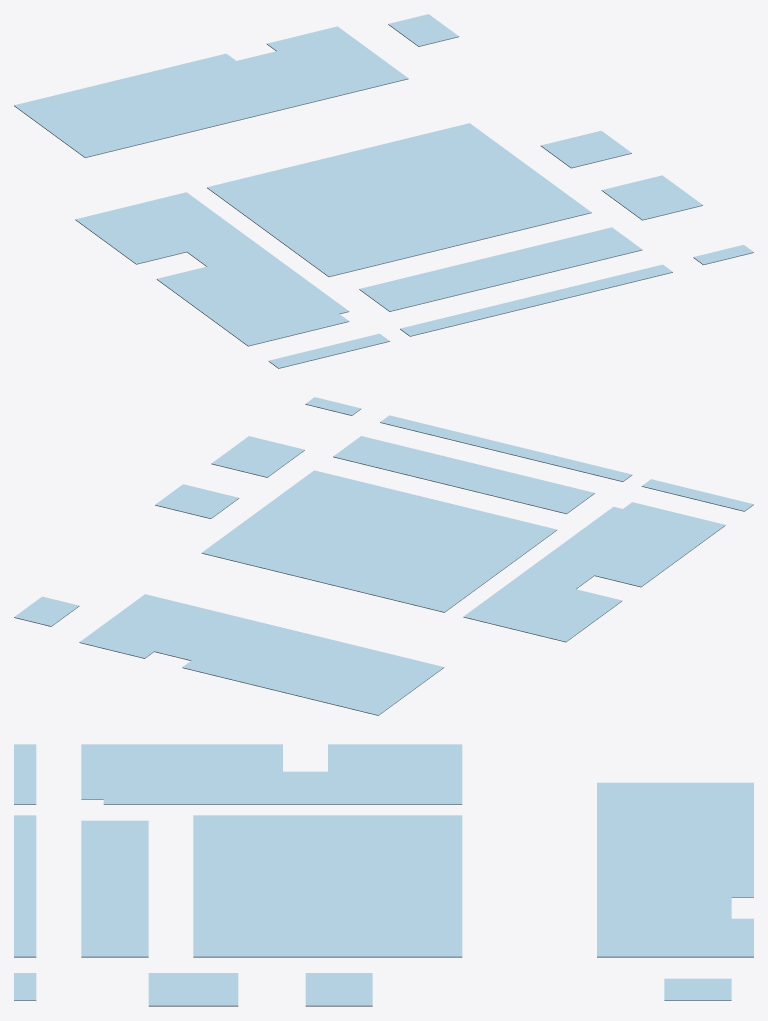
File: SM_MPRR_SolarBank_01_1_LOD1.fbx
The picture shows the model from 3 angles, top to bottom: view 1: azimuth 30°, elevation 25°; view 2: azimuth 150°, elevation 25°; view 3: azimuth 270°, elevation 25°; orthographic projection. The views are drawn at different scales.
Visible parts, largest first — view 1: SM_MPRR_SolarBank_01_1_LOD1; view 2: SM_MPRR_SolarBank_01_1_LOD1; view 3: SM_MPRR_SolarBank_01_1_LOD1.
Part boxes in pixels (left/top/right/bottom): SM_MPRR_SolarBank_01_1_LOD1: left=14, top=14, right=753, bottom=368; SM_MPRR_SolarBank_01_1_LOD1: left=14, top=397, right=753, bottom=715; SM_MPRR_SolarBank_01_1_LOD1: left=14, top=744, right=753, bottom=1006.
Size of the model in its own units: 5376 by 6435 by 8.
